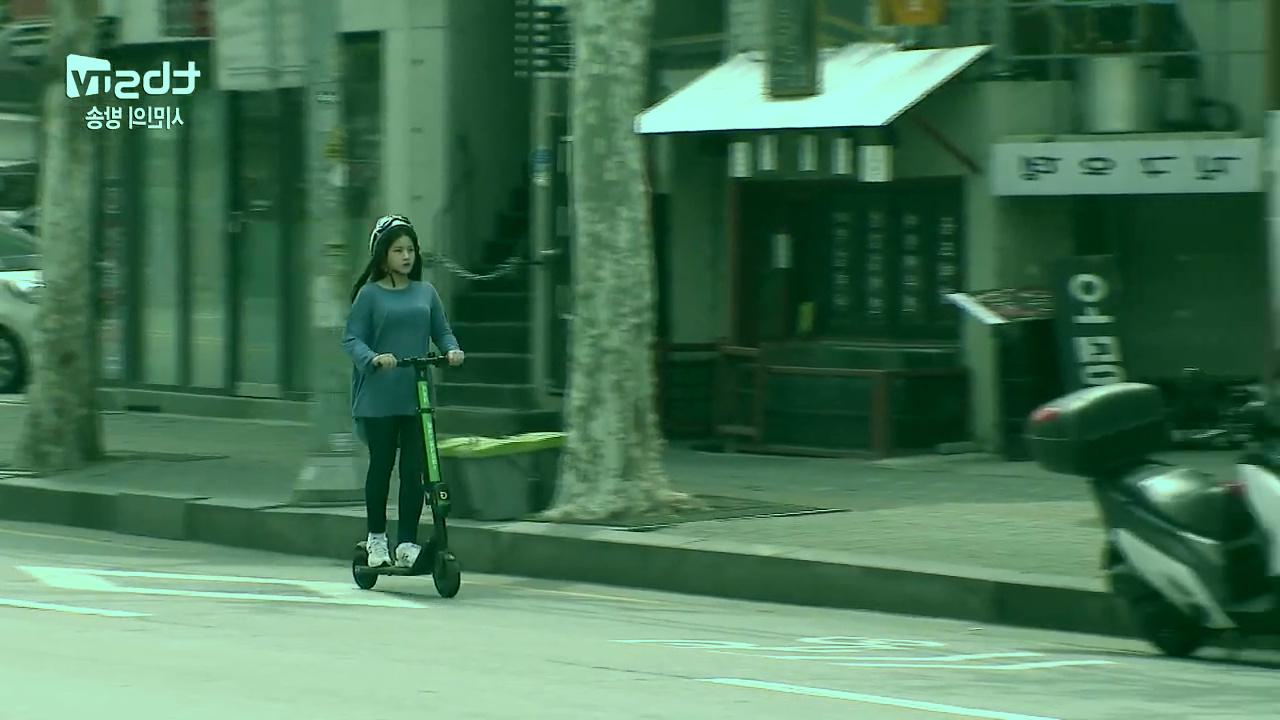helmet: (345, 211, 467, 598)
